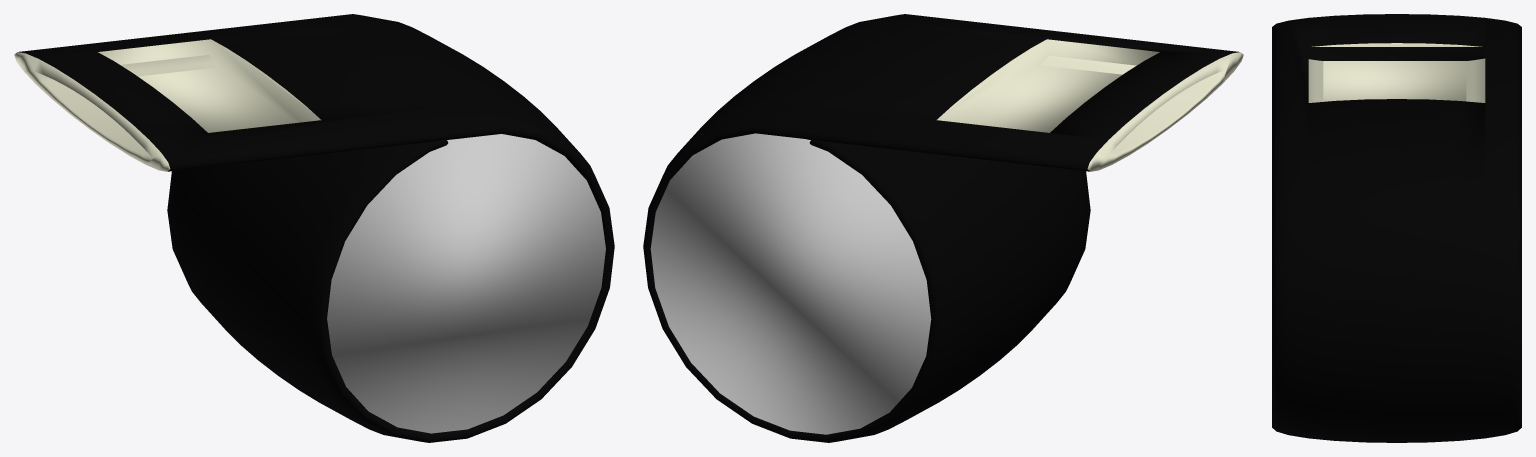
File: Whistle.fbx
3 views of the same model, side by side, from view 1: azimuth 30°, elevation 25°; view 2: azimuth 150°, elevation 25°; view 3: azimuth 270°, elevation 25° (orthographic). The views are drawn at different scales.
Visible parts, largest first — view 1: ske6E7_1; view 2: ske6E7_1; view 3: ske6E7_1.
Part boxes in pixels (<box>): ske6E7_1: <box>14,14,614,442</box>; ske6E7_1: <box>643,14,1243,442</box>; ske6E7_1: <box>1272,14,1521,442</box>.
Bounding box in the file's own units: 488 × 379 × 286.
